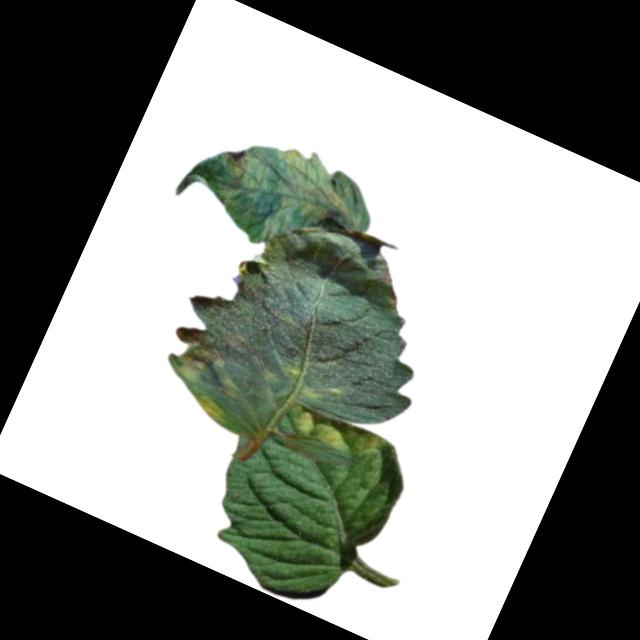Leaf_Mold: (247, 141, 363, 272), (162, 309, 258, 402), (282, 398, 387, 473), (213, 138, 279, 197), (191, 390, 229, 424)
